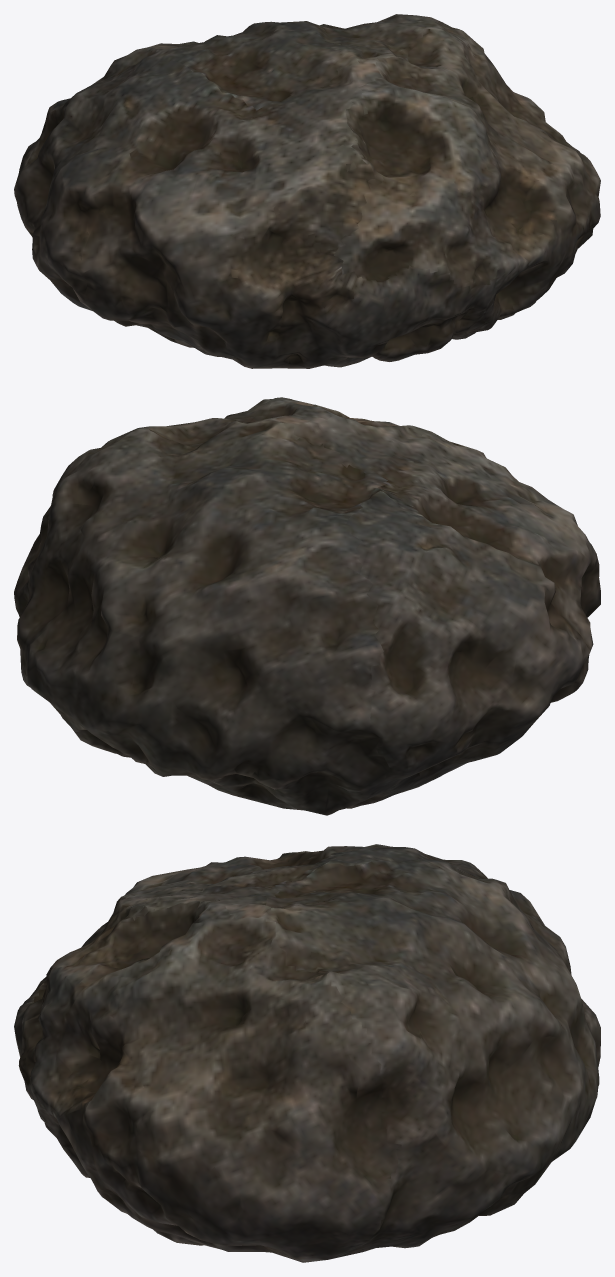
File: asteroid_common_3_lod2.glb
The picture shows the model from 3 angles, top to bottom: view 1: azimuth 30°, elevation 25°; view 2: azimuth 150°, elevation 25°; view 3: azimuth 270°, elevation 25°; orthographic projection. The views are drawn at different scales.
Visible parts, largest first — view 1: model; view 2: model; view 3: model.
Boxes of the visible parts, left/top/right/bottom form: model: left=14, top=14, right=600, bottom=368; model: left=14, top=397, right=600, bottom=815; model: left=14, top=844, right=600, bottom=1262.
Size of the model in its own units: 1.9 by 0.976 by 1.7.
Materials: 1 (1 with a texture image).
